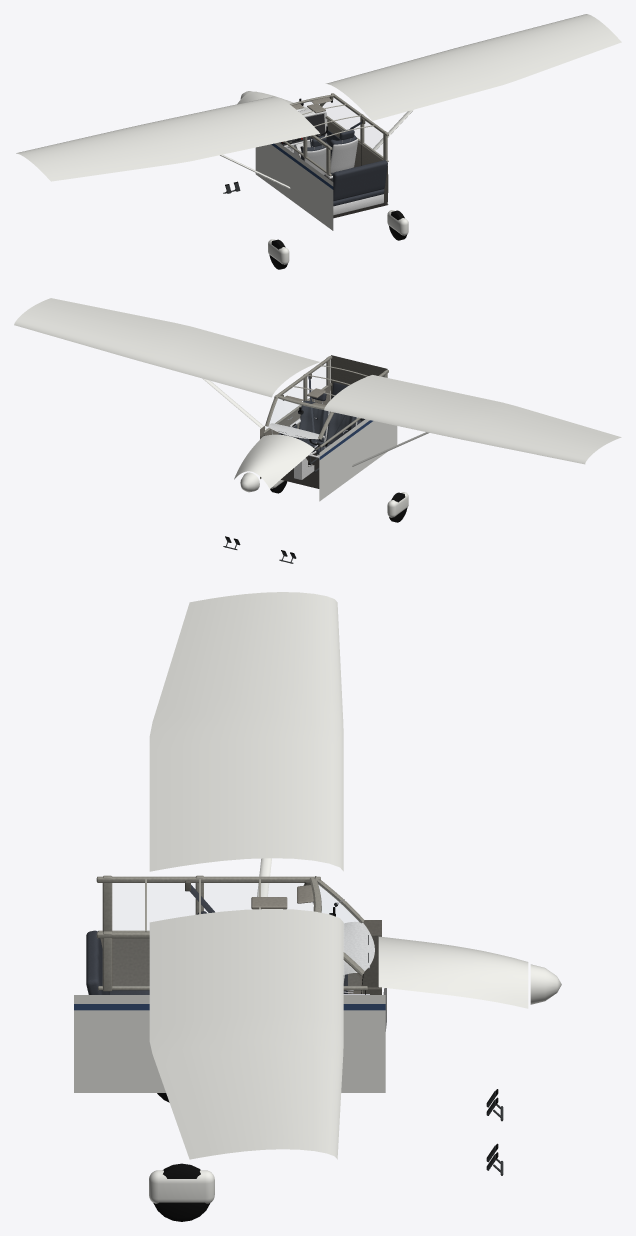
Rendered from c172-cockpit.glb.
The picture shows the model from 3 angles, top to bottom: view 1: azimuth 30°, elevation 25°; view 2: azimuth 150°, elevation 25°; view 3: azimuth 270°, elevation 25°; orthographic projection. The views are drawn at different scales.
Parts seen in each view (by area): view 1: exterior, shell; view 2: exterior, shell; view 3: exterior, shell.
Boxes of the visible parts, x1,y1,x2,y2 form: exterior: [16, 14, 621, 269]; shell: [283, 93, 388, 218]; exterior: [14, 298, 621, 522]; shell: [260, 355, 388, 488]; exterior: [74, 592, 561, 1221]; shell: [86, 875, 386, 1031].
Size of the model in its own units: 11 by 2.68 by 4.07.
Materials: 27 (13 with a texture image).
